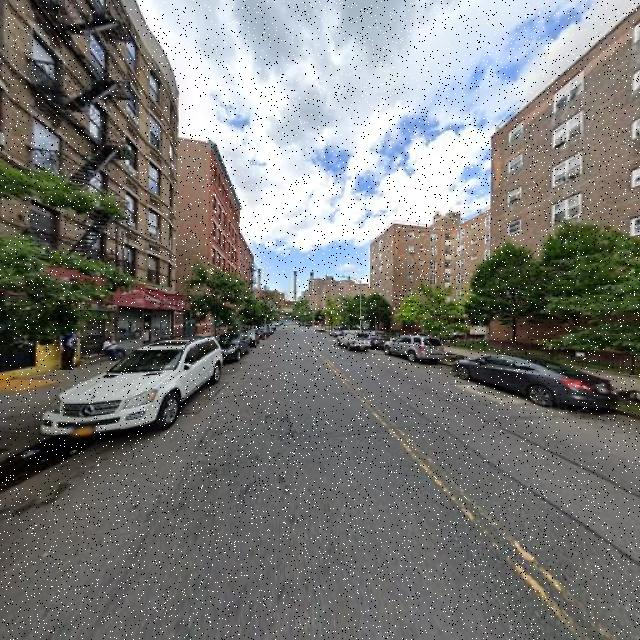Building: (455, 4, 640, 374), (1, 1, 173, 379), (211, 143, 238, 335), (372, 229, 392, 335), (240, 237, 250, 328)
